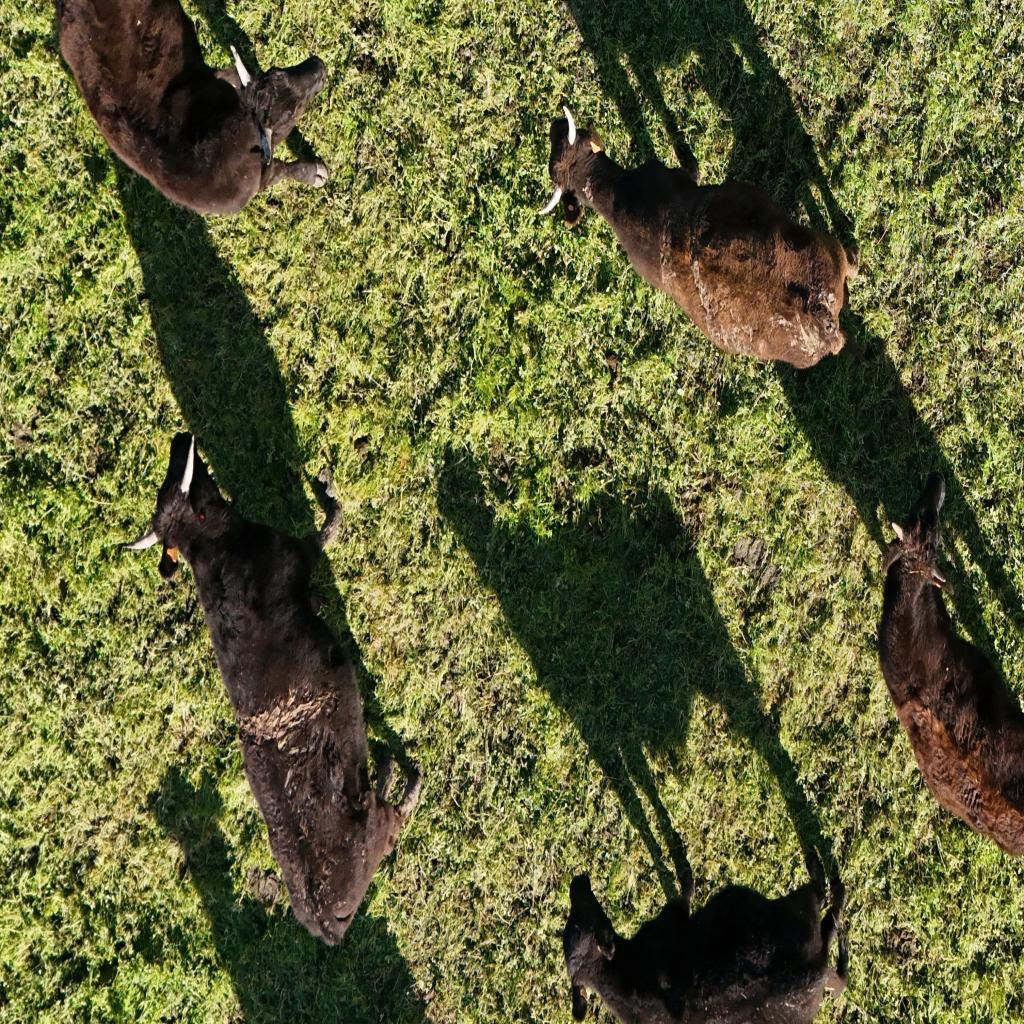cow: (127, 422, 431, 964), (543, 110, 865, 371), (43, 1, 337, 215), (871, 465, 1024, 865), (562, 848, 850, 1024)
